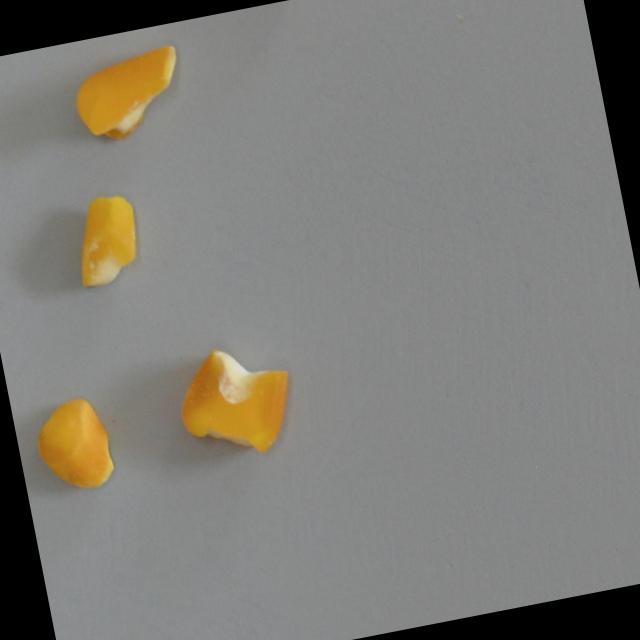estandar: (66, 42, 191, 147), (29, 392, 118, 496)
no_canjicado: (170, 336, 300, 465)
pelicula: (65, 190, 148, 288)
